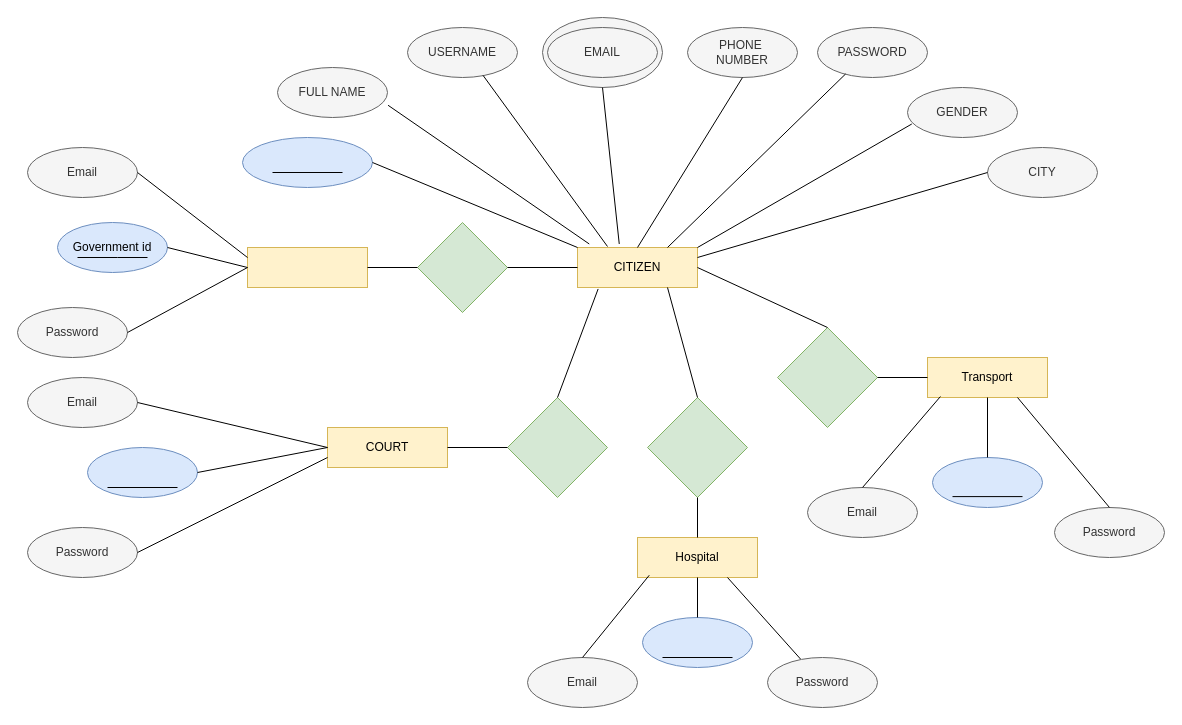
The diagram is 1182 pixels wide and 725 high, and some of its shapes have lost their labels. The shapes that lost their labels are listed below. From the top down, each one's centre as x and y in pixels, then its label:
point 307,162: CITIZEN ID
point 307,267: GOVERNMENT
point 462,267: Raised Complaints
point 827,377: Transport Booking
point 557,447: Court Appointments
point 697,447: Hospital Appointments
point 142,472: Court id
point 987,482: Transport id
point 697,642: Hospital id
